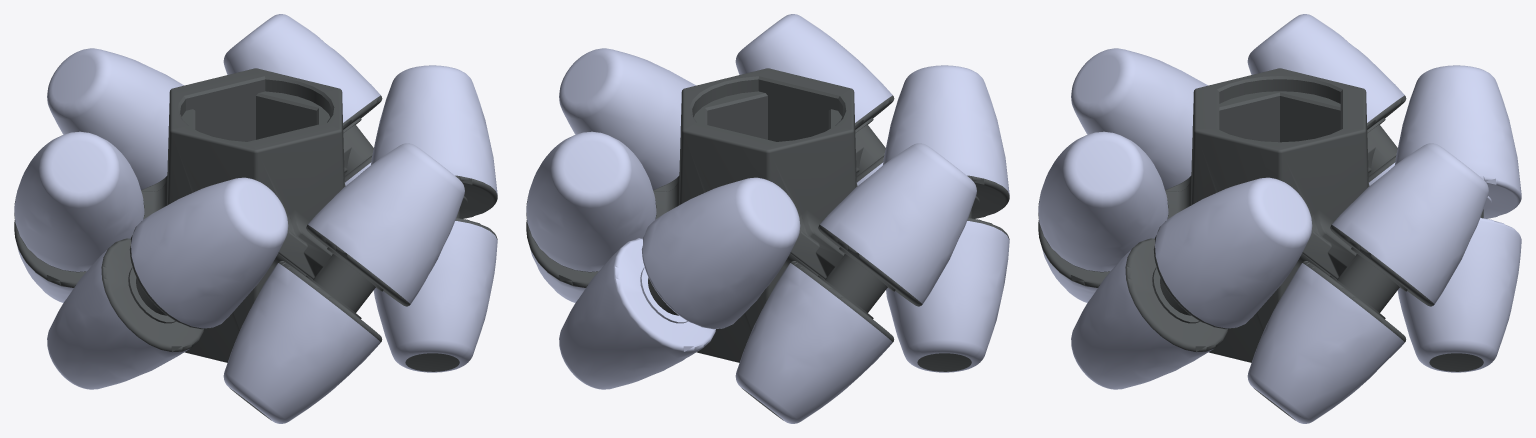
Rendered from 2” Mecanum Wheels V2 (Left) (276-9041-801) .glb.
3 renders of one model, left to right at view 1: azimuth 30°, elevation 25°; view 2: azimuth 150°, elevation 25°; view 3: azimuth 270°, elevation 25°, orthographic.
Parts seen in each view (by area): view 1: 276-9041-801_PR-015; view 2: 276-9041-801_PR-015; view 3: 276-9041-801_PR-015.
Boxes of the visible parts, left/top/right/bottom form: 276-9041-801_PR-015: left=14, top=14, right=497, bottom=423; 276-9041-801_PR-015: left=526, top=14, right=1009, bottom=423; 276-9041-801_PR-015: left=1038, top=14, right=1521, bottom=423.
Bounding box in the file's own units: 0.0506 × 0.0275 × 0.0507.
